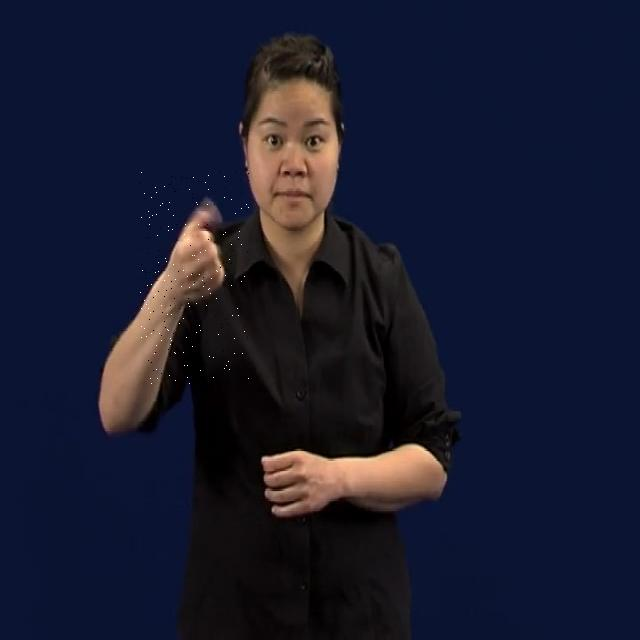milk: (140, 172, 250, 387)
